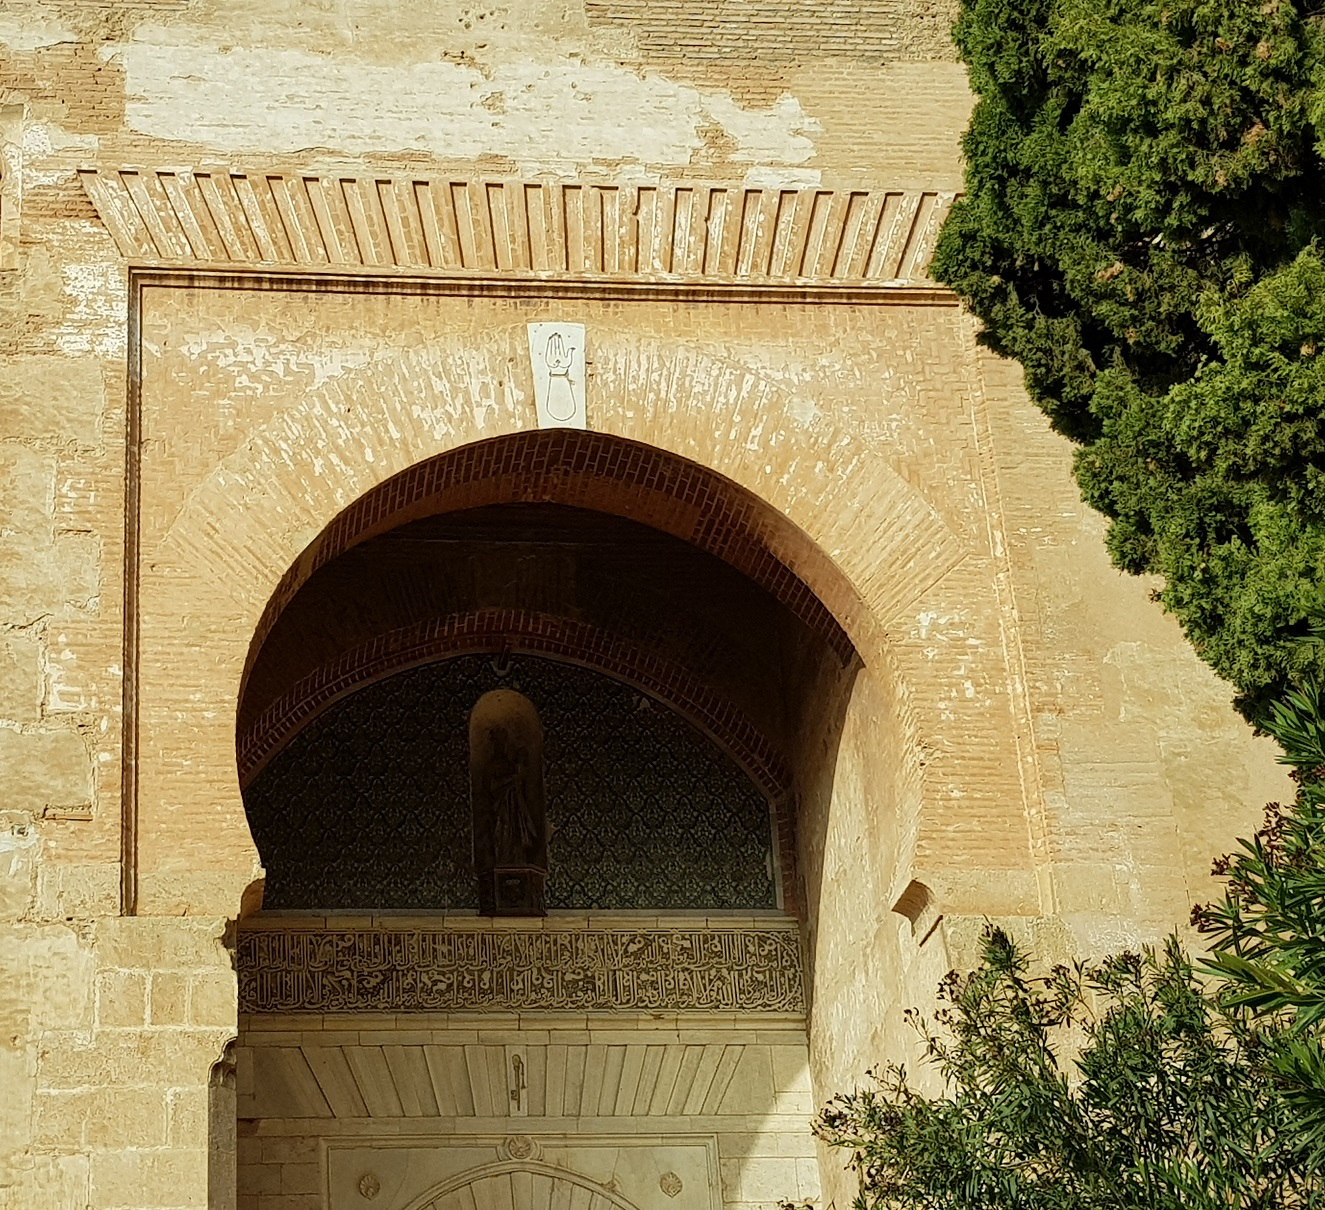arco-herradura: (192, 398, 972, 948)
dintel-adovelado: (78, 167, 946, 296), (298, 1043, 747, 1125)
